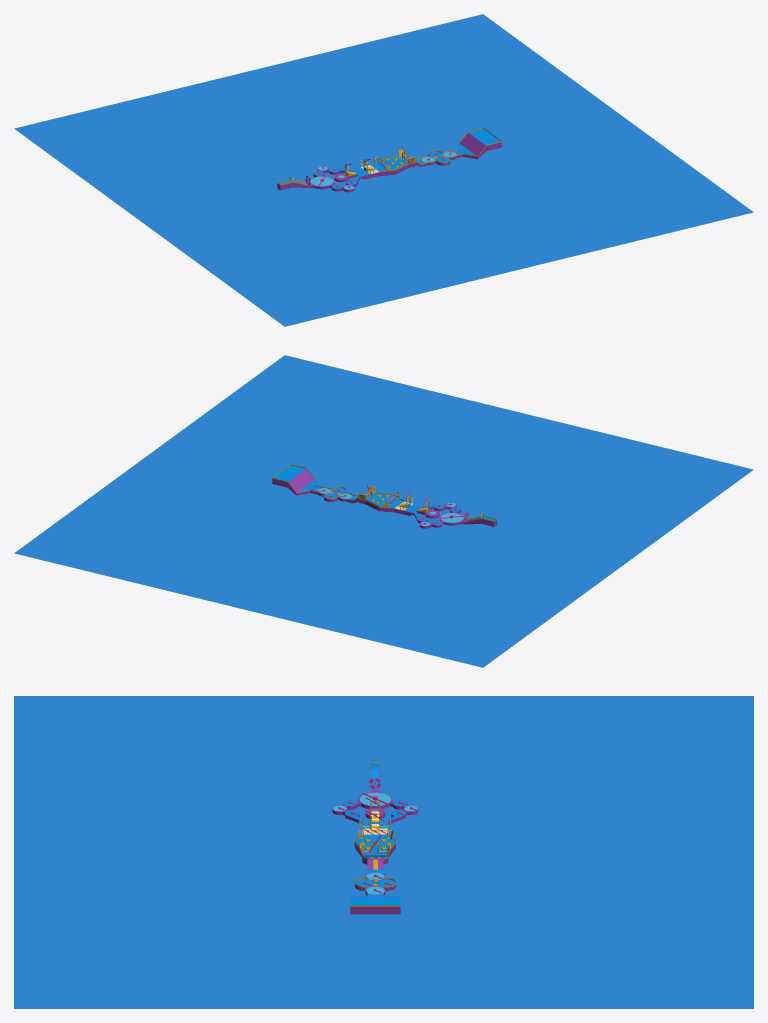
The model's file is fall guys map.fbx.
3 views of the same model, one above another, from view 1: azimuth 30°, elevation 25°; view 2: azimuth 150°, elevation 25°; view 3: azimuth 270°, elevation 25° (orthographic). The views are drawn at different scales.
Visible parts, largest first — view 1: Plane.001, Cube, Cube.016; view 2: Plane.001, Cube, Cube.016; view 3: Plane.001, Cube, Cube.016.
Boxes of the visible parts, <box> form: Plane.001: <box>14,14,753,326</box>; Cube: <box>277,128,501,189</box>; Cube.016: <box>277,132,501,192</box>; Plane.001: <box>14,355,753,667</box>; Cube: <box>272,464,496,526</box>; Cube.016: <box>272,469,496,528</box>; Plane.001: <box>14,696,753,1008</box>; Cube: <box>332,759,418,906</box>; Cube.016: <box>332,789,418,914</box>.
Size of what is drawn, in the model's own units: 3666 by 161 by 3666.
